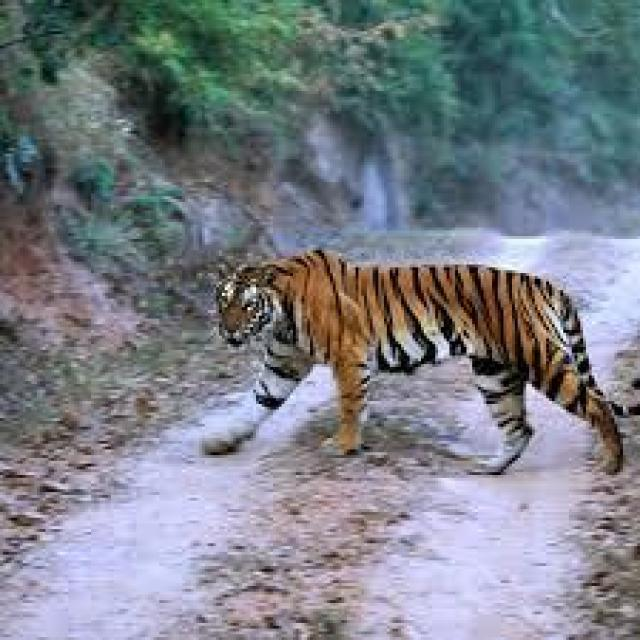Tiger: (180, 195, 598, 459)
